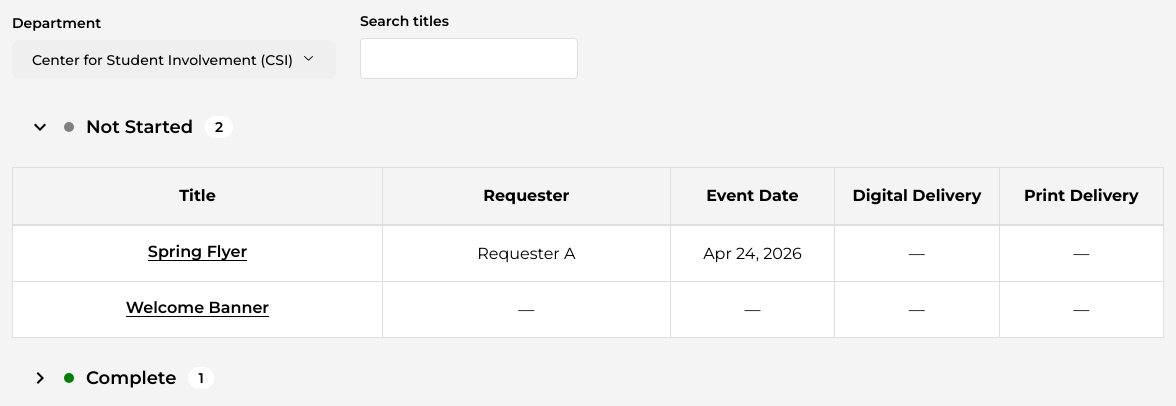
Scenario: ContentBoard › narrows counts by title search without opening closed sections
Type "flyer" into the search field labelled "Search titles" at (469,58), box top-left (360, 38), bottom-right (578, 79)
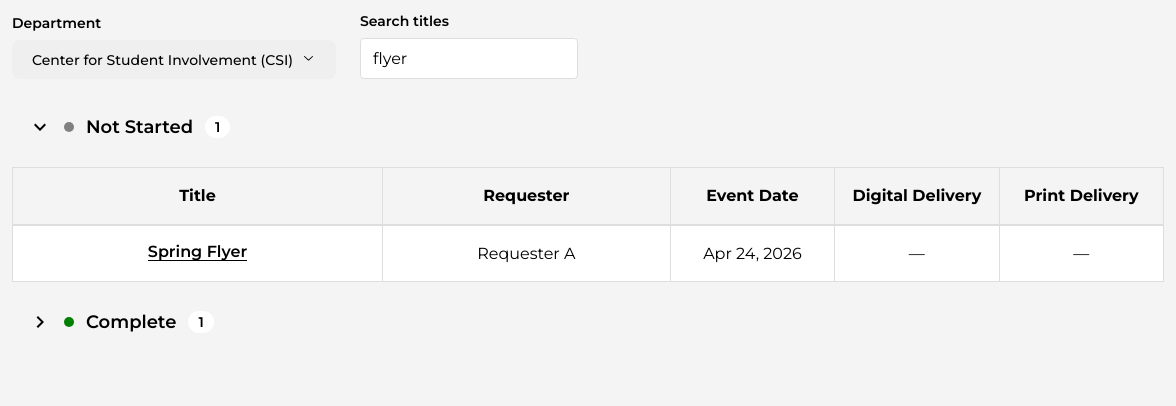
Expected: the button "Welcome Banner" is gone
